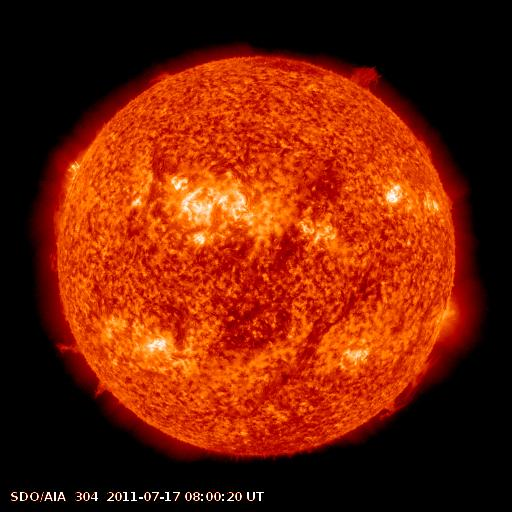prominence: (378, 351, 441, 421), (341, 55, 392, 101), (41, 194, 67, 278), (46, 326, 83, 362), (87, 371, 118, 407), (141, 65, 180, 93)
